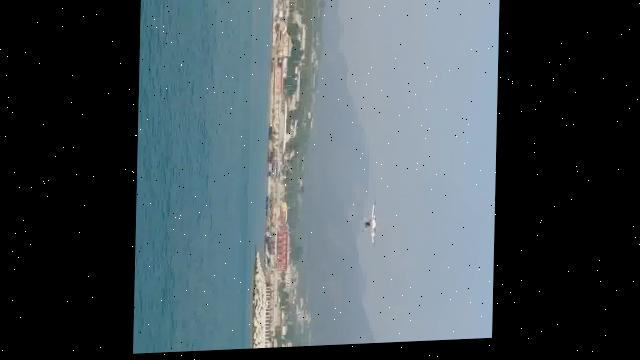drone: (361, 199, 381, 259)
